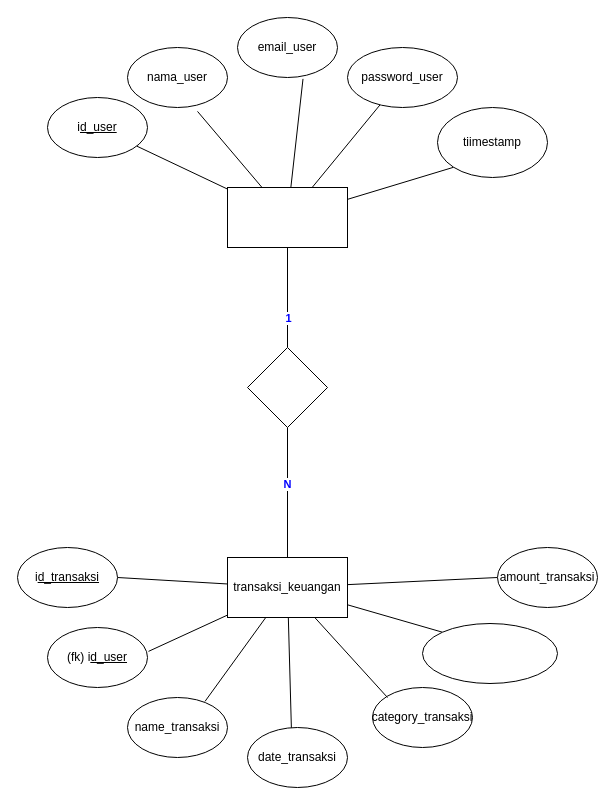
This 615x805 diagram has some shape labels left out. The shapes that lost their labels are listed below. From the top down, each one's centre as x and y in pixels, then its label:
the point at 287,217: users
the point at 287,387: memiliki
the point at 490,653: description_transaksi
